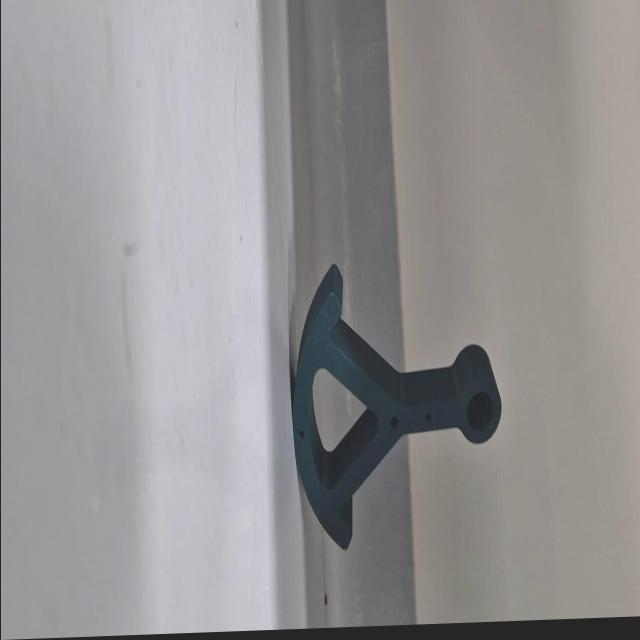haptic: (290, 254, 502, 556)
